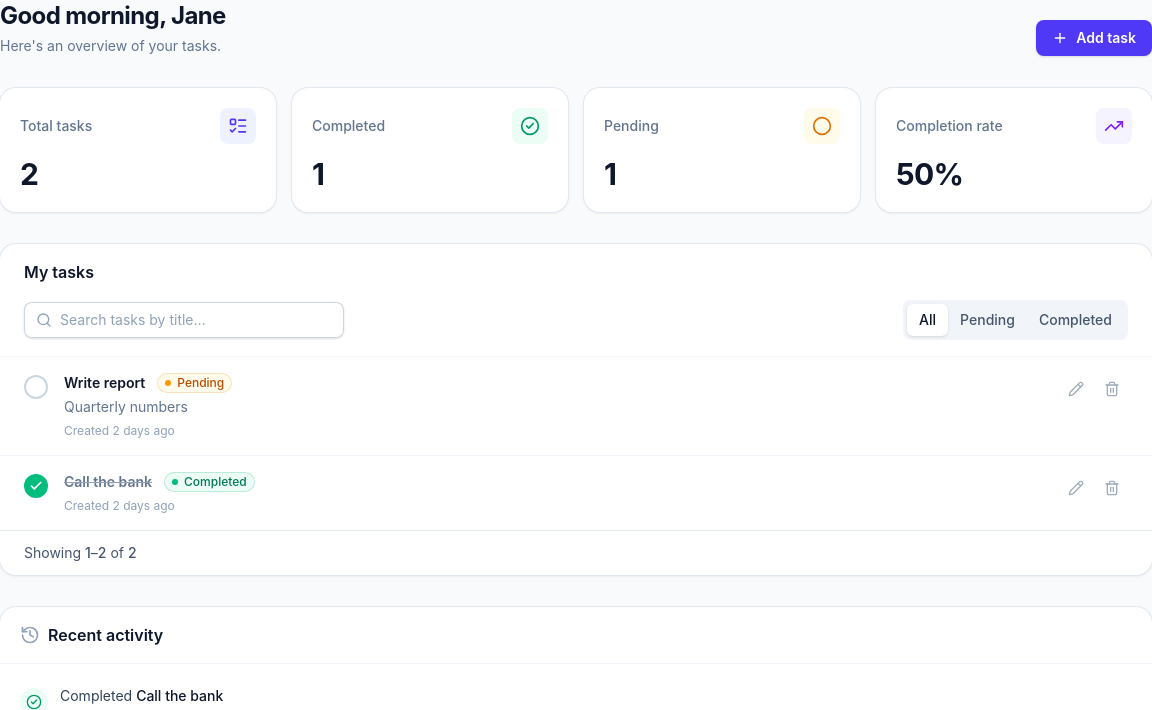
it: DashboardPage › edits a task through the modal form
Step 1. Click the button named "Edit “Write report”" → [1076, 389], box top-left (1060, 373), bottom-right (1092, 405)
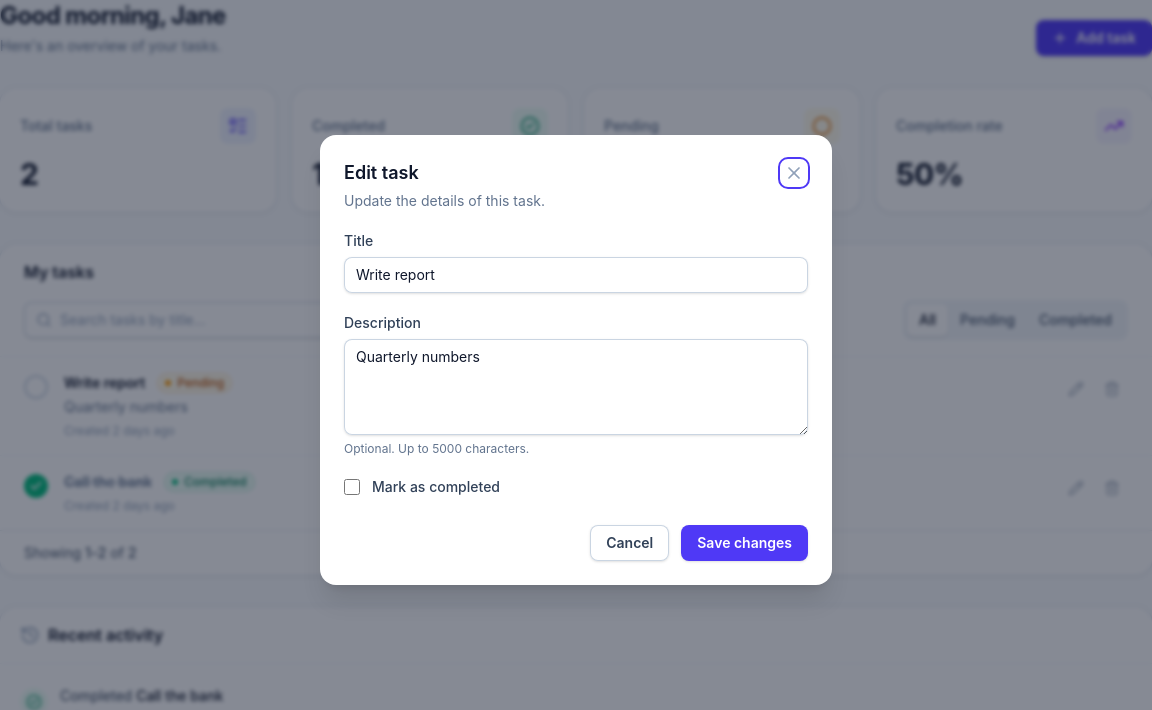
Step 2. Replace the text in the field labelled "Title" with "Write final report" → [576, 275], box top-left (344, 257), bottom-right (808, 293)
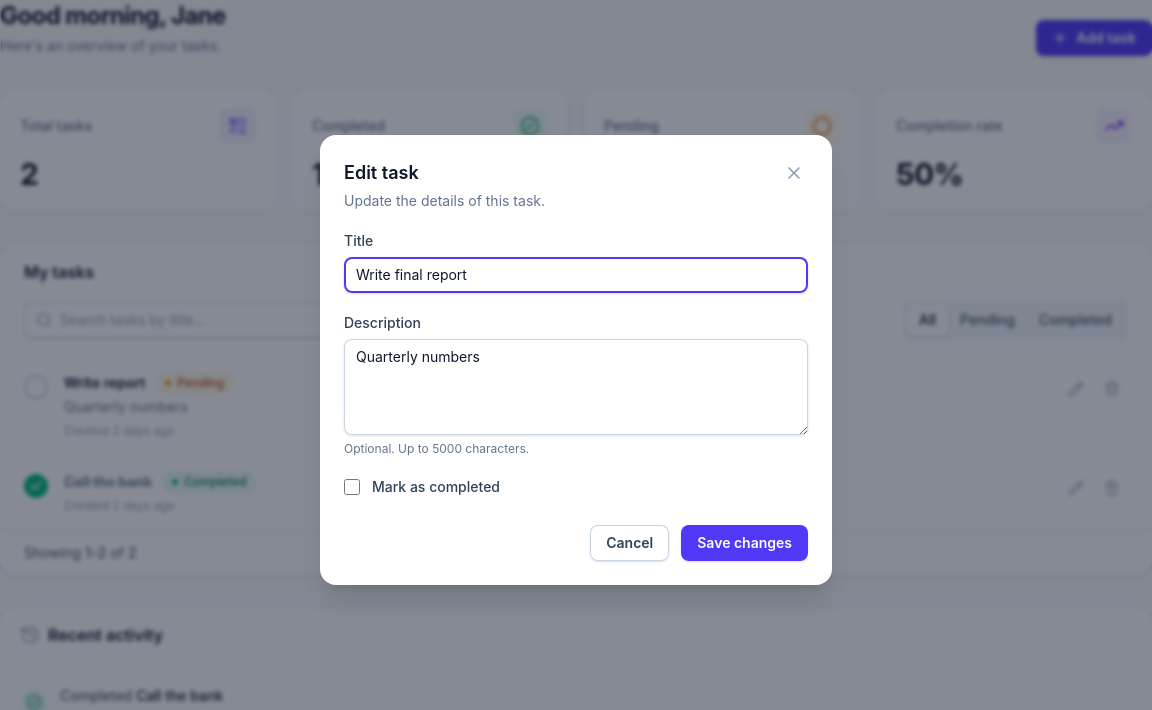
Step 3. Click the button "Save changes" → [745, 543], box top-left (681, 525), bottom-right (808, 561)
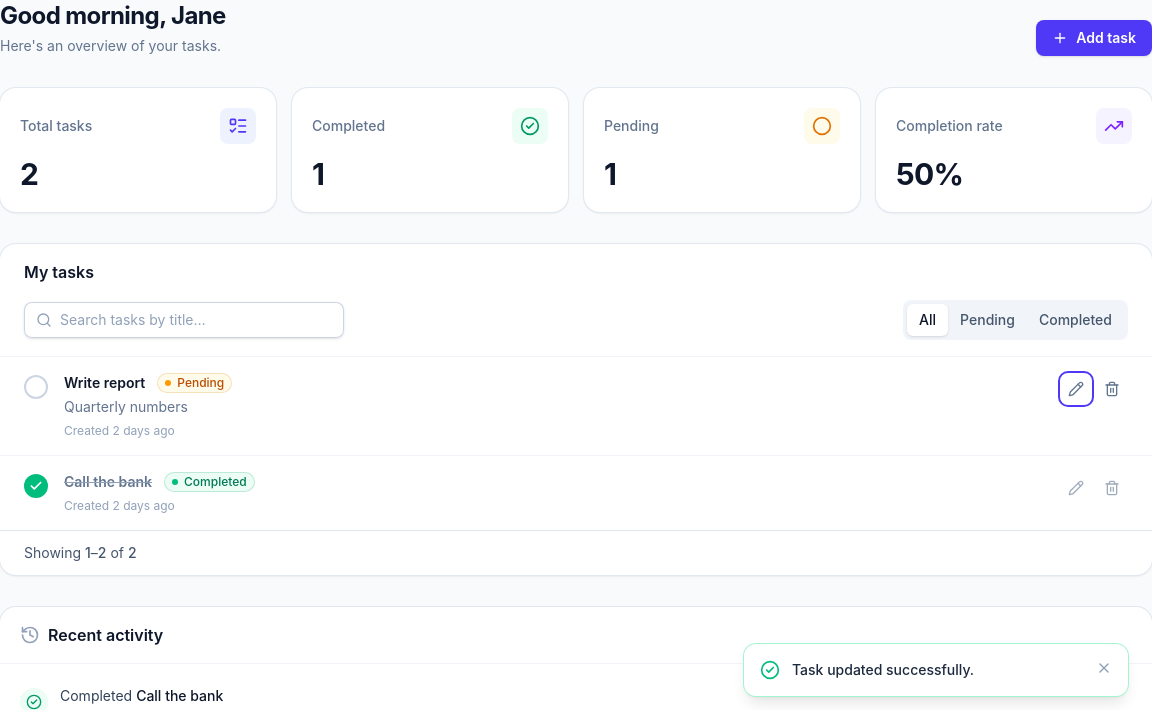
Expected: the text "Task updated successfully." is shown, top-left (792, 661), bottom-right (974, 678)
